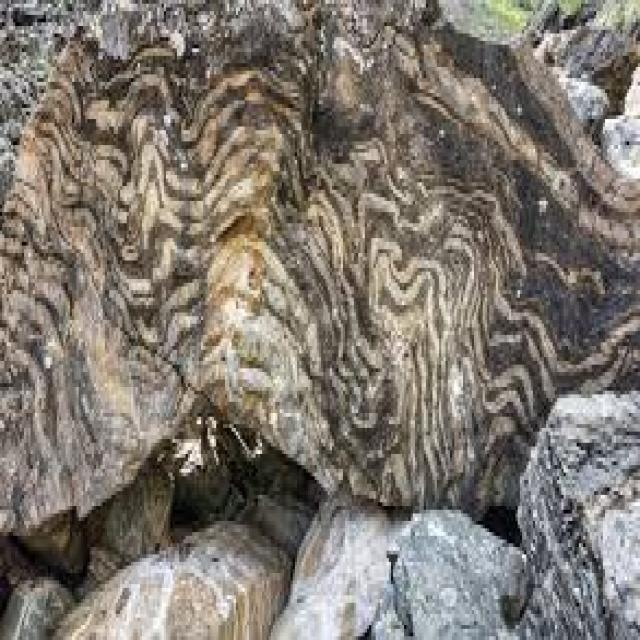Metamorphic: (2, 4, 540, 495)
